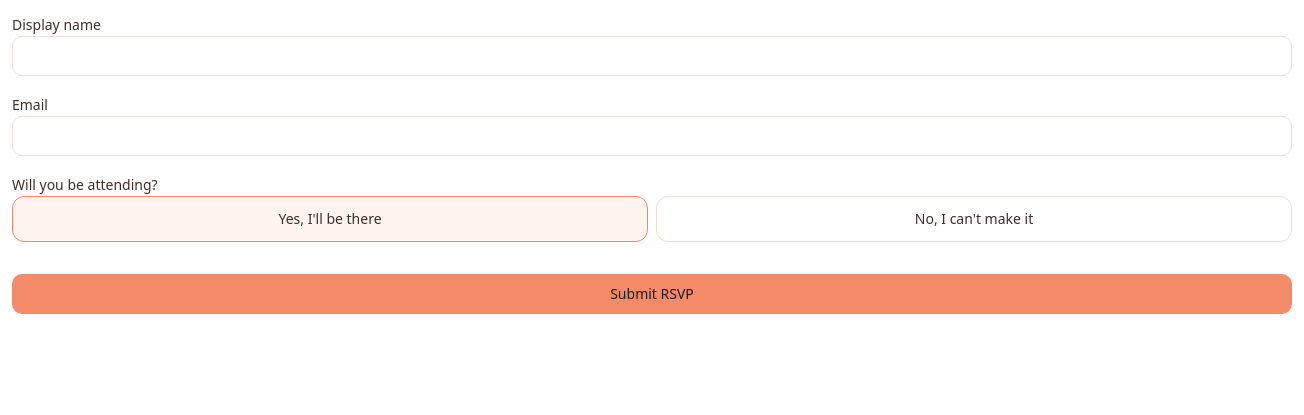
Scenario: RsvpForm › validates required fields on submit
Click the button "Submit RSVP". click: (652, 294)
box: [12,274,1292,314]
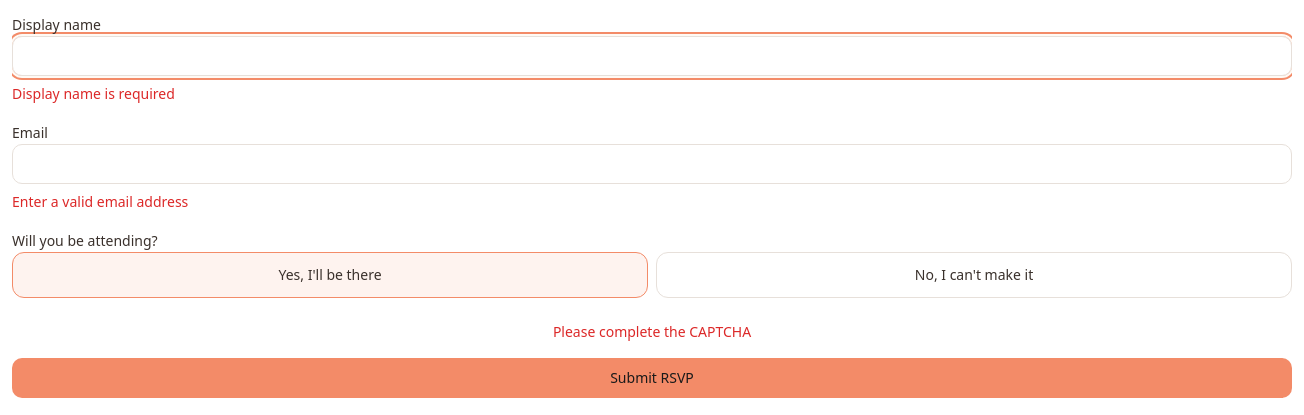
Now the text "Display name is required" is shown, box [12,84,175,103]
Now the text "Enter a valid email address" is shown, box [12,192,188,211]
Now the text "Please complete the CAPTCHA" is shown, box [553,322,751,341]
